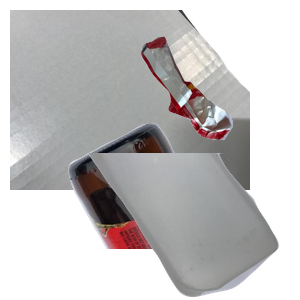cardboard: (10, 10, 250, 190)
glass: (66, 120, 300, 300)
plastic: (84, 153, 300, 300)
trash: (139, 34, 300, 167)
